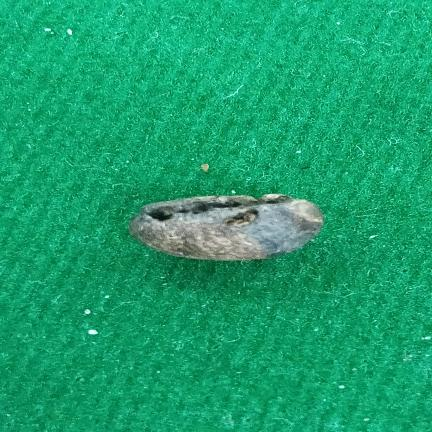partial-black: (129, 194, 323, 261)
